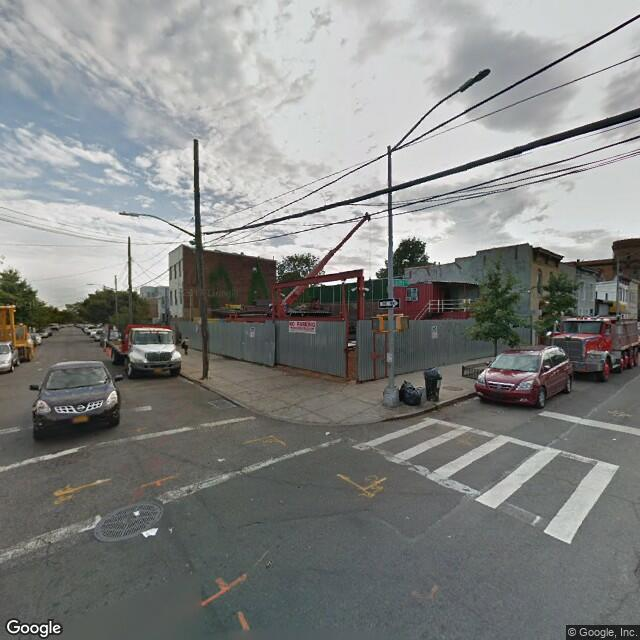litter: (140, 526, 160, 538), (167, 525, 176, 535), (132, 509, 141, 517), (322, 429, 331, 436), (216, 456, 226, 462)
